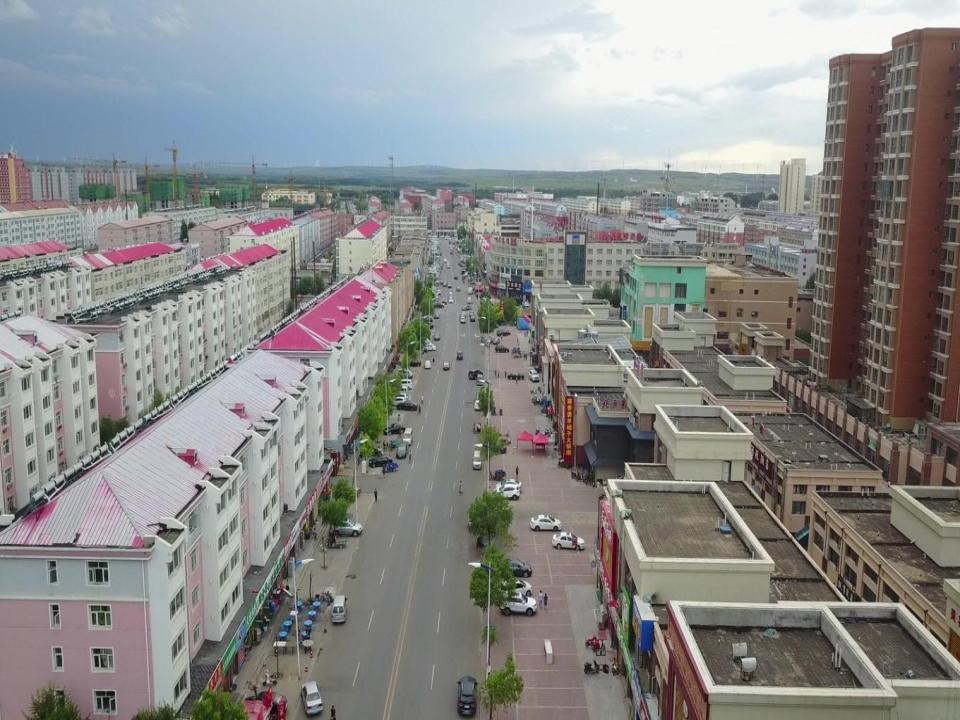car: (242, 691, 288, 714), (500, 591, 536, 615), (300, 680, 324, 716), (496, 556, 532, 577), (496, 578, 532, 598), (458, 676, 476, 714), (529, 514, 562, 532), (552, 532, 584, 550), (328, 520, 363, 535), (493, 485, 520, 500), (496, 478, 522, 493), (368, 454, 392, 467), (384, 423, 405, 435), (397, 402, 418, 411), (395, 444, 408, 458), (468, 369, 483, 380), (508, 371, 525, 380), (391, 397, 405, 406), (393, 392, 407, 400), (529, 370, 539, 381), (495, 344, 508, 352), (408, 360, 421, 367), (474, 399, 482, 410), (433, 302, 445, 309), (476, 373, 483, 385), (499, 328, 511, 335), (496, 329, 509, 335), (420, 341, 431, 348), (418, 337, 429, 344), (424, 345, 436, 351), (442, 361, 450, 370), (462, 304, 472, 311), (434, 332, 441, 342), (424, 359, 431, 369), (459, 315, 466, 324), (456, 350, 462, 360), (486, 336, 493, 343), (468, 286, 473, 295), (470, 315, 476, 322), (493, 337, 500, 343), (448, 296, 453, 304), (434, 312, 440, 318), (467, 296, 471, 304), (447, 283, 452, 289), (446, 262, 450, 269), (456, 286, 460, 292), (443, 257, 447, 263), (454, 274, 458, 278), (439, 280, 442, 284)
truck: (511, 346, 522, 358)
van: (331, 594, 347, 623), (472, 450, 482, 470), (403, 427, 413, 445), (397, 368, 413, 379), (397, 378, 412, 389), (392, 386, 408, 395), (422, 315, 434, 323), (422, 322, 434, 329), (436, 294, 438, 299)
